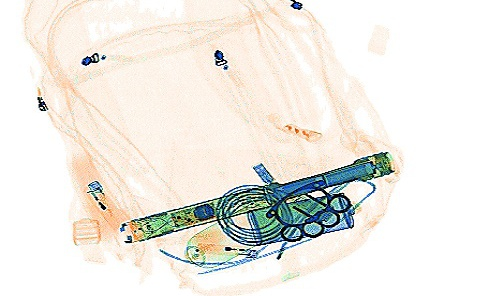lighter: (80, 178, 129, 233), (193, 237, 258, 256)
pressure: (184, 209, 258, 266)
zippooil: (246, 191, 357, 244)
